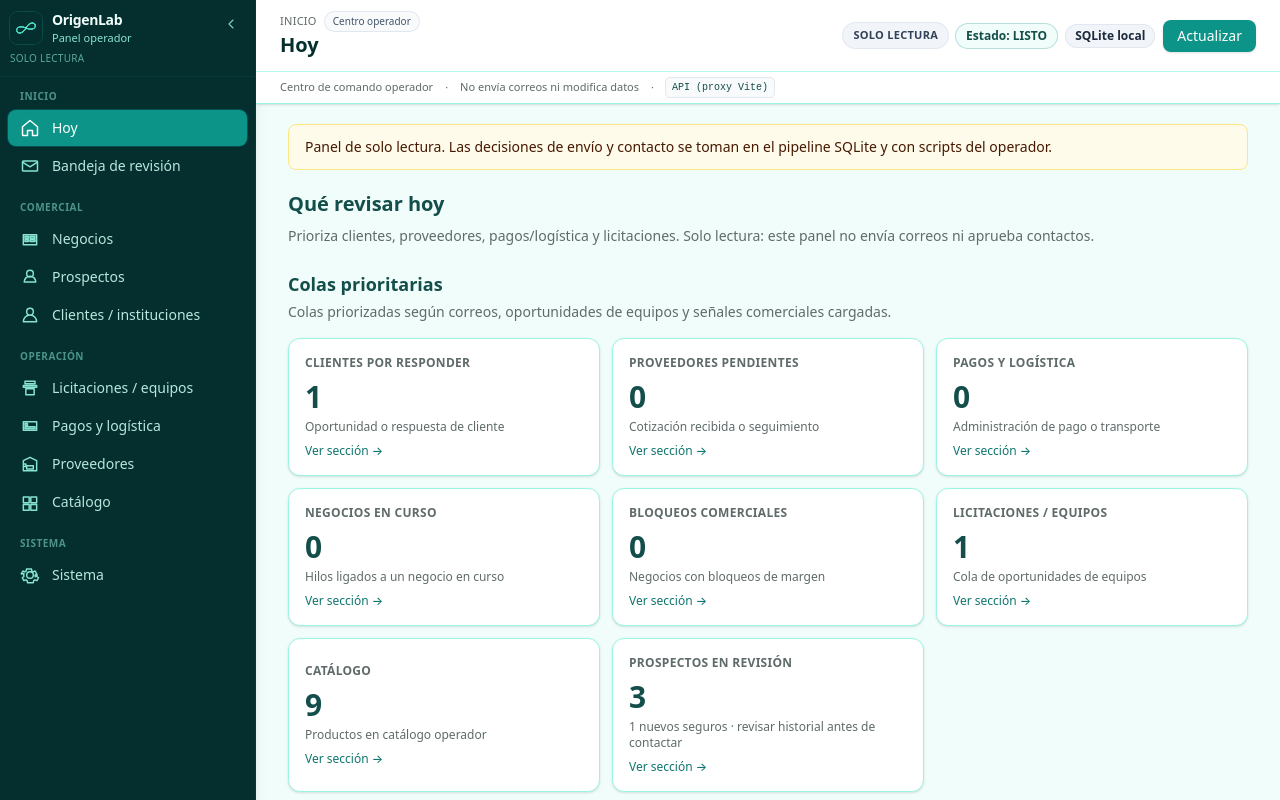
Test: DashboardApp (legacy TodayPage tests) › does not expose sqlite paths or raw body fields
The image size is (1280, 800).
Click the link "Licitaciones / equipos": [107, 388] box [20,378,193,398]
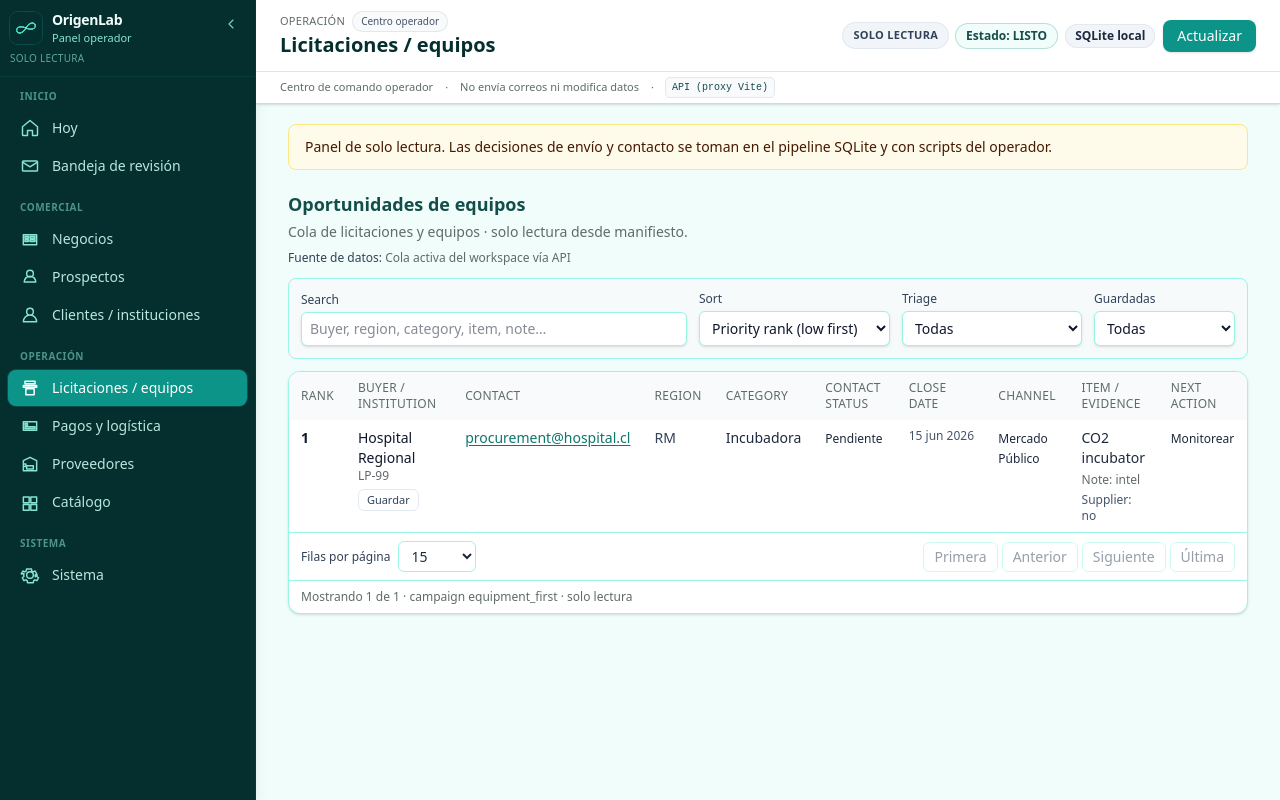
Now the text "Hospital Regional" is shown, box [358,428,415,467]
